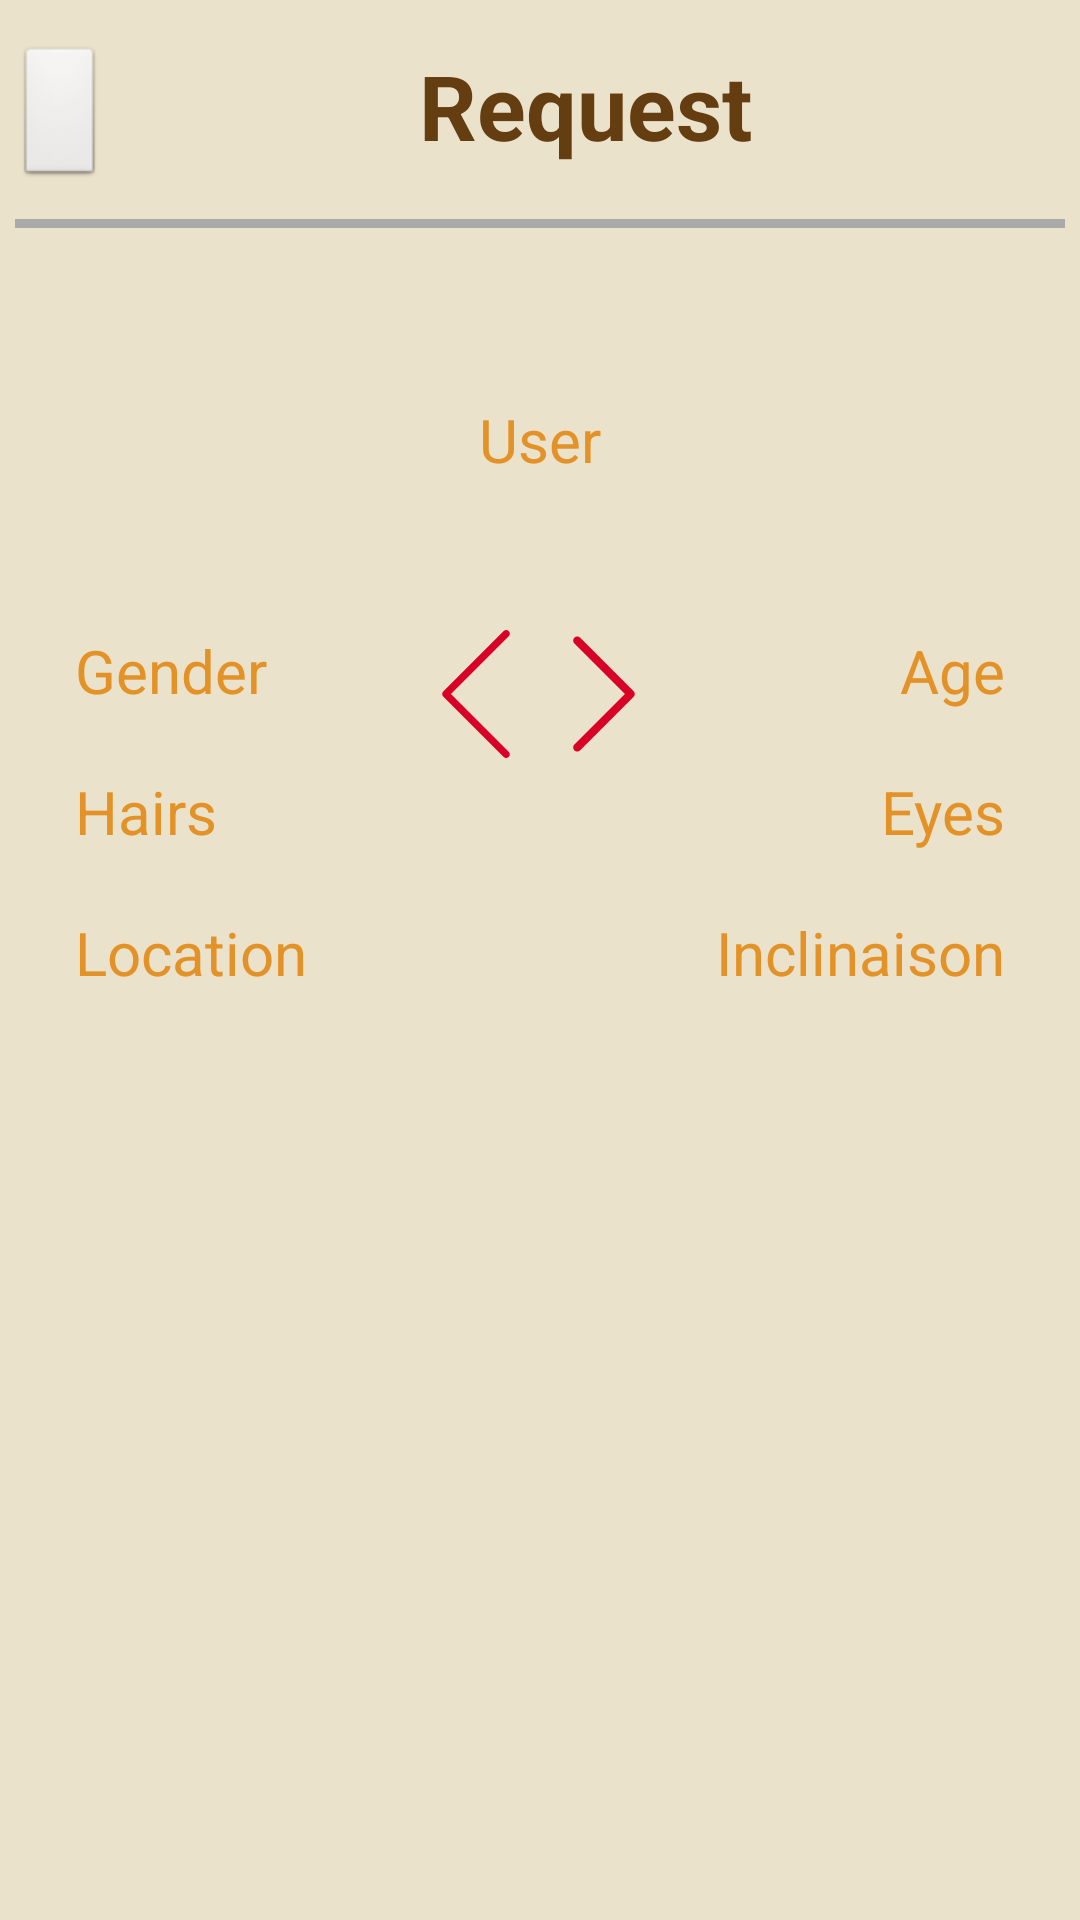

Point at icon controls on the screen. Image size 1080×1920, points as (x,y).
arrow: (476,694), (604,694)
